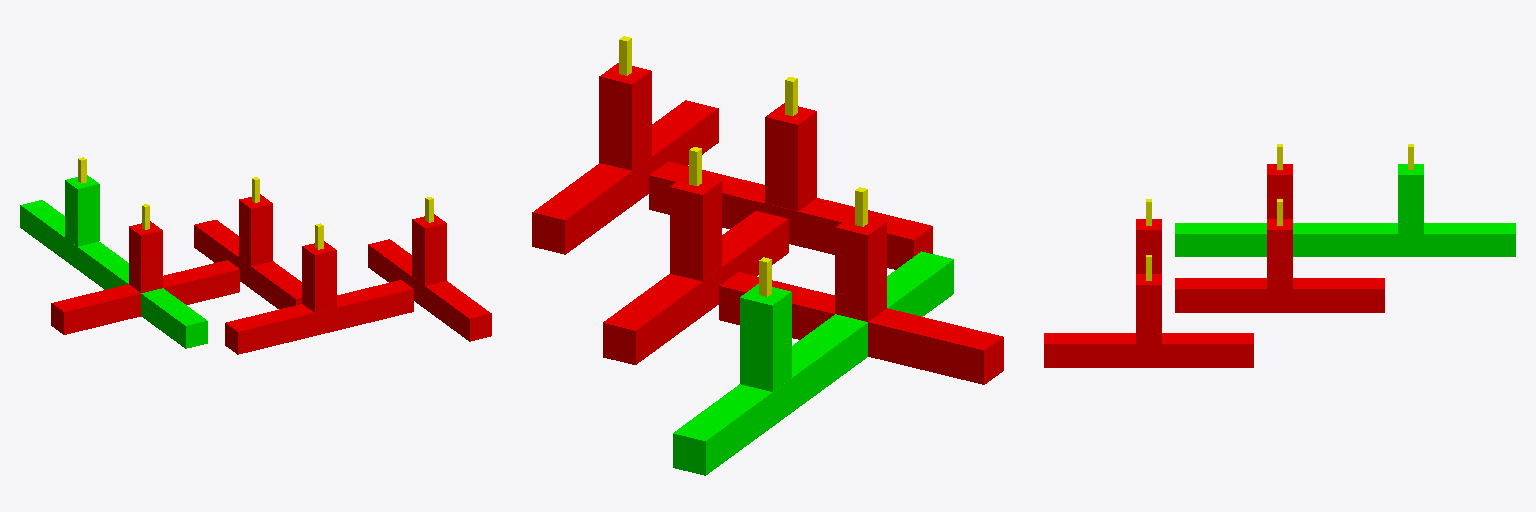
The robot description file, URDF, robot "simple_sliders5":
<?xml version="1.0"?>
<!-- created with Phobos 1.0.1 "Capricious Choutengan" -->
  <robot name="simple_sliders5">

    <link name="base_link">
    </link>

    <link name="goal">
      <visual name="visual_box_0_link_0.001">
        <origin xyz="0 0 0" rpy="0 0 0"/>
        <geometry>
          <box size="1.5974 0.1988 0.1988"/>
        </geometry>
        <material name="green_translucent"/>
      </visual>
    </link>

    <link name="link_0_joint_0">
      <visual name="visual_box_0_link_0">
        <origin xyz="0 0 0" rpy="0 0 0"/>
        <geometry>
          <box size="1.599 0.199 0.199"/>
        </geometry>
        <material name="green"/>
      </visual>
      <collision name="collision_box_0_link_0">
        <origin xyz="0 0 0" rpy="0 0 0"/>
        <geometry>
          <box size="1.599 0.199 0.199"/>
        </geometry>
      </collision>
    </link>

    <link name="link_1_joint_0">
      <visual name="visual_box_3_link_1">
        <origin xyz="0 0 0" rpy="0 0 0"/>
        <geometry>
          <box size="1.599 0.199 0.199"/>
        </geometry>
        <material name="red"/>
      </visual>
      <collision name="collision_box_3_link_1">
        <origin xyz="0 0 0" rpy="0 0 0"/>
        <geometry>
          <box size="1.599 0.199 0.199"/>
        </geometry>
      </collision>
    </link>

    <link name="link_2_joint_0">
      <visual name="visual_box_6_link_2">
        <origin xyz="0 0 0" rpy="0 0 0"/>
        <geometry>
          <box size="1.599 0.199 0.199"/>
        </geometry>
        <material name="red"/>
      </visual>
      <collision name="collision_box_6_link_2">
        <origin xyz="0 0 0" rpy="0 0 0"/>
        <geometry>
          <box size="1.599 0.199 0.199"/>
        </geometry>
      </collision>
    </link>

    <link name="link_3_joint_0">
      <visual name="visual_box_9_link_3">
        <origin xyz="0 0 0" rpy="0 0 0"/>
        <geometry>
          <box size="1.599 0.199 0.199"/>
        </geometry>
        <material name="red"/>
      </visual>
      <collision name="collision_box_9_link_3">
        <origin xyz="0 0 0" rpy="0 0 0"/>
        <geometry>
          <box size="1.599 0.199 0.199"/>
        </geometry>
      </collision>
    </link>

    <link name="link_4_joint_0">
      <visual name="visual_box_12_link_4">
        <origin xyz="0 0 0" rpy="0 0 0"/>
        <geometry>
          <box size="1.599 0.199 0.199"/>
        </geometry>
        <material name="red"/>
      </visual>
      <collision name="collision_box_12_link_4">
        <origin xyz="0 0 0" rpy="0 0 0"/>
        <geometry>
          <box size="1.599 0.199 0.199"/>
        </geometry>
      </collision>
    </link>

    <link name="link_fixed_10_handle_shaft">
      <visual name="visual_box_fixed_10_handle_shaft">
        <origin xyz="0 0 0" rpy="0 0 0"/>
        <geometry>
          <box size="0.199 0.199 0.499"/>
        </geometry>
        <material name="red"/>
      </visual>
      <collision name="collision_box_fixed_10_handle_shaft">
        <origin xyz="0 0 0" rpy="0 0 0"/>
        <geometry>
          <box size="0.199 0.199 0.499"/>
        </geometry>
      </collision>
    </link>

    <link name="link_fixed_11_handle_knob">
      <visual name="visual_box_fixed_11_handle_knob">
        <origin xyz="0 0 0" rpy="0 0 0"/>
        <geometry>
          <box size="0.049 0.049 0.199"/>
        </geometry>
        <material name="yellow"/>
      </visual>
      <collision name="collision_box_fixed_11_handle_knob">
        <origin xyz="0 0 0" rpy="0 0 0"/>
        <geometry>
          <box size="0.049 0.049 0.199"/>
        </geometry>
      </collision>
    </link>

    <link name="link_fixed_13_handle_shaft">
      <visual name="visual_box_fixed_13_handle_shaft">
        <origin xyz="0 0 0" rpy="0 0 0"/>
        <geometry>
          <box size="0.199 0.199 0.499"/>
        </geometry>
        <material name="red"/>
      </visual>
      <collision name="collision_box_fixed_13_handle_shaft">
        <origin xyz="0 0 0" rpy="0 0 0"/>
        <geometry>
          <box size="0.199 0.199 0.499"/>
        </geometry>
      </collision>
    </link>

    <link name="link_fixed_14_handle_knob">
      <visual name="visual_box_fixed_14_handle_knob">
        <origin xyz="0 0 0" rpy="0 0 0"/>
        <geometry>
          <box size="0.049 0.049 0.199"/>
        </geometry>
        <material name="yellow"/>
      </visual>
      <collision name="collision_box_fixed_14_handle_knob">
        <origin xyz="0 0 0" rpy="0 0 0"/>
        <geometry>
          <box size="0.049 0.049 0.199"/>
        </geometry>
      </collision>
    </link>

    <link name="link_fixed_1_handle_shaft">
      <visual name="visual_box_fixed_1_handle_shaft">
        <origin xyz="0 0 0" rpy="0 0 0"/>
        <geometry>
          <box size="0.199 0.199 0.499"/>
        </geometry>
        <material name="green"/>
      </visual>
      <collision name="collision_box_fixed_1_handle_shaft">
        <origin xyz="0 0 0" rpy="0 0 0"/>
        <geometry>
          <box size="0.199 0.199 0.499"/>
        </geometry>
      </collision>
    </link>

    <link name="link_fixed_1_handle_shaft.001">
      <visual name="visual_box_fixed_1_handle_shaft.001">
        <origin xyz="0 0 0" rpy="0 0 0"/>
        <geometry>
          <box size="0.1988 0.1988 0.4985"/>
        </geometry>
        <material name="green_translucent"/>
      </visual>
    </link>

    <link name="link_fixed_2_handle_knob">
      <visual name="visual_box_fixed_2_handle_knob">
        <origin xyz="0 0 0" rpy="0 0 0"/>
        <geometry>
          <box size="0.049 0.049 0.199"/>
        </geometry>
        <material name="yellow"/>
      </visual>
      <collision name="collision_box_fixed_2_handle_knob">
        <origin xyz="0 0 0" rpy="0 0 0"/>
        <geometry>
          <box size="0.049 0.049 0.199"/>
        </geometry>
      </collision>
    </link>

    <link name="link_fixed_2_handle_knob.001">
      <visual name="visual_box_fixed_2_handle_knob.001">
        <origin xyz="0 0 0" rpy="0 0 0"/>
        <geometry>
          <box size="0.04895 0.04895 0.1988"/>
        </geometry>
        <material name="green_translucent"/>
      </visual>
    </link>

    <link name="link_fixed_4_handle_shaft">
      <visual name="visual_box_fixed_4_handle_shaft">
        <origin xyz="0 0 0" rpy="0 0 0"/>
        <geometry>
          <box size="0.199 0.199 0.499"/>
        </geometry>
        <material name="red"/>
      </visual>
      <collision name="collision_box_fixed_4_handle_shaft">
        <origin xyz="0 0 0" rpy="0 0 0"/>
        <geometry>
          <box size="0.199 0.199 0.499"/>
        </geometry>
      </collision>
    </link>

    <link name="link_fixed_5_handle_knob">
      <visual name="visual_box_fixed_5_handle_knob">
        <origin xyz="0 0 0" rpy="0 0 0"/>
        <geometry>
          <box size="0.049 0.049 0.199"/>
        </geometry>
        <material name="yellow"/>
      </visual>
      <collision name="collision_box_fixed_5_handle_knob">
        <origin xyz="0 0 0" rpy="0 0 0"/>
        <geometry>
          <box size="0.049 0.049 0.199"/>
        </geometry>
      </collision>
    </link>

    <link name="link_fixed_7_handle_shaft">
      <visual name="visual_box_fixed_7_handle_shaft">
        <origin xyz="0 0 0" rpy="0 0 0"/>
        <geometry>
          <box size="0.199 0.199 0.499"/>
        </geometry>
        <material name="red"/>
      </visual>
      <collision name="collision_box_fixed_7_handle_shaft">
        <origin xyz="0 0 0" rpy="0 0 0"/>
        <geometry>
          <box size="0.199 0.199 0.499"/>
        </geometry>
      </collision>
    </link>

    <link name="link_fixed_8_handle_knob">
      <visual name="visual_box_fixed_8_handle_knob">
        <origin xyz="0 0 0" rpy="0 0 0"/>
        <geometry>
          <box size="0.049 0.049 0.199"/>
        </geometry>
        <material name="yellow"/>
      </visual>
      <collision name="collision_box_fixed_8_handle_knob">
        <origin xyz="0 0 0" rpy="0 0 0"/>
        <geometry>
          <box size="0.049 0.049 0.199"/>
        </geometry>
      </collision>
    </link>

    <joint name="goal" type="fixed">
      <origin xyz="0 -1.0 0.1" rpy="0 0 -1.5708"/>
      <parent link="base_link"/>
      <child link="goal"/>
      <limit effort="0" velocity="0"/>
    </joint>

    <joint name="link_0_joint_0" type="prismatic">
      <origin xyz="0 0 0.1" rpy="0 0 -1.5708"/>
      <parent link="base_link"/>
      <child link="link_0_joint_0"/>
      <axis xyz="1.0 0 0"/>
      <limit lower="0" upper="1.0" effort="0" velocity="0"/>
    </joint>

    <joint name="link_1_joint_0" type="prismatic">
      <origin xyz="0 -1.0 0.1" rpy="0 0 0"/>
      <parent link="base_link"/>
      <child link="link_1_joint_0"/>
      <axis xyz="1.0 0 0"/>
      <limit lower="0" upper="1.0" effort="0" velocity="0"/>
    </joint>

    <joint name="link_2_joint_0" type="prismatic">
      <origin xyz="1.0 -1.0 0.1" rpy="0 0 -1.5708"/>
      <parent link="base_link"/>
      <child link="link_2_joint_0"/>
      <axis xyz="1.0 0 0"/>
      <limit lower="0" upper="1.0" effort="0" velocity="0"/>
    </joint>

    <joint name="link_3_joint_0" type="prismatic">
      <origin xyz="1.0 -2.0 0.1" rpy="0 0 0"/>
      <parent link="base_link"/>
      <child link="link_3_joint_0"/>
      <axis xyz="1.0 0 0"/>
      <limit lower="0" upper="1.0" effort="0" velocity="0"/>
    </joint>

    <joint name="link_4_joint_0" type="prismatic">
      <origin xyz="2.0 -2.0 0.1" rpy="0 0 -1.5708"/>
      <parent link="base_link"/>
      <child link="link_4_joint_0"/>
      <axis xyz="1.0 0 0"/>
      <limit lower="0" upper="1.0" effort="0" velocity="0"/>
    </joint>

    <joint name="link_fixed_10_handle_shaft" type="fixed">
      <origin xyz="0 0 0.35" rpy="0 0 0"/>
      <parent link="link_3_joint_0"/>
      <child link="link_fixed_10_handle_shaft"/>
    </joint>

    <joint name="link_fixed_11_handle_knob" type="fixed">
      <origin xyz="0 0 0.35" rpy="0 0 0"/>
      <parent link="link_fixed_10_handle_shaft"/>
      <child link="link_fixed_11_handle_knob"/>
    </joint>

    <joint name="link_fixed_13_handle_shaft" type="fixed">
      <origin xyz="0 0 0.35" rpy="0 0 0"/>
      <parent link="link_4_joint_0"/>
      <child link="link_fixed_13_handle_shaft"/>
    </joint>

    <joint name="link_fixed_14_handle_knob" type="fixed">
      <origin xyz="0 0 0.35" rpy="0 0 0"/>
      <parent link="link_fixed_13_handle_shaft"/>
      <child link="link_fixed_14_handle_knob"/>
    </joint>

    <joint name="link_fixed_1_handle_shaft" type="fixed">
      <origin xyz="0 0 0.35" rpy="0 0 0"/>
      <parent link="link_0_joint_0"/>
      <child link="link_fixed_1_handle_shaft"/>
    </joint>

    <joint name="link_fixed_1_handle_shaft.001" type="fixed">
      <origin xyz="0 0 0.34965" rpy="0 0 0"/>
      <parent link="goal"/>
      <child link="link_fixed_1_handle_shaft.001"/>
    </joint>

    <joint name="link_fixed_2_handle_knob" type="fixed">
      <origin xyz="0 0 0.35" rpy="0 0 0"/>
      <parent link="link_fixed_1_handle_shaft"/>
      <child link="link_fixed_2_handle_knob"/>
    </joint>

    <joint name="link_fixed_2_handle_knob.001" type="fixed">
      <origin xyz="0 0 0.34965" rpy="0 0 0"/>
      <parent link="link_fixed_1_handle_shaft.001"/>
      <child link="link_fixed_2_handle_knob.001"/>
    </joint>

    <joint name="link_fixed_4_handle_shaft" type="fixed">
      <origin xyz="0 0 0.35" rpy="0 0 0"/>
      <parent link="link_1_joint_0"/>
      <child link="link_fixed_4_handle_shaft"/>
    </joint>

    <joint name="link_fixed_5_handle_knob" type="fixed">
      <origin xyz="0 0 0.35" rpy="0 0 0"/>
      <parent link="link_fixed_4_handle_shaft"/>
      <child link="link_fixed_5_handle_knob"/>
    </joint>

    <joint name="link_fixed_7_handle_shaft" type="fixed">
      <origin xyz="0 0 0.35" rpy="0 0 0"/>
      <parent link="link_2_joint_0"/>
      <child link="link_fixed_7_handle_shaft"/>
    </joint>

    <joint name="link_fixed_8_handle_knob" type="fixed">
      <origin xyz="0 0 0.35" rpy="0 0 0"/>
      <parent link="link_fixed_7_handle_shaft"/>
      <child link="link_fixed_8_handle_knob"/>
    </joint>

    <material name="green">
      <color rgba="0 1.0 0 1.0"/>
    </material>

    <material name="green_translucent">
      <color rgba="0 1.0 0 0.25"/>
    </material>

    <material name="red">
      <color rgba="1.0 0 0 1.0"/>
    </material>

    <material name="yellow">
      <color rgba="1.0 1.0 0 1.0"/>
    </material>

  </robot>

--- Render facts (derived) ---
Views: 3 orthographic renders of the robot side by side, from view 1: azimuth 30°, elevation 25°; view 2: azimuth 150°, elevation 25°; view 3: azimuth 270°, elevation 25°.
Model simple_sliders5 with 19 links and 18 joints (5 prismatic, 13 fixed), rooted at base_link, posed every joint at zero.
Visible links, largest first — view 1: link_3_joint_0, link_1_joint_0, link_4_joint_0, link_0_joint_0, link_2_joint_0, goal, link_fixed_13_handle_shaft, link_fixed_10_handle_shaft, link_fixed_1_handle_shaft, link_fixed_7_handle_shaft, link_fixed_4_handle_shaft; view 2: link_0_joint_0, link_1_joint_0, link_4_joint_0, link_2_joint_0, link_3_joint_0, link_fixed_13_handle_shaft, link_fixed_10_handle_shaft, link_fixed_1_handle_shaft, link_fixed_7_handle_shaft, link_fixed_4_handle_shaft, goal; view 3: link_2_joint_0, link_4_joint_0, link_0_joint_0, goal, link_fixed_1_handle_shaft, link_fixed_13_handle_shaft, link_fixed_7_handle_shaft, link_fixed_10_handle_shaft, link_fixed_4_handle_shaft.
Link boxes in pixels (x1,y1,x2,y2): link_3_joint_0: (225,280,413,354); link_1_joint_0: (51,260,239,334); link_4_joint_0: (368,239,491,341); link_0_joint_0: (20,200,128,289); link_2_joint_0: (194,220,301,308); goal: (122,278,207,348); link_fixed_13_handle_shaft: (412,214,446,285); link_fixed_10_handle_shaft: (302,241,336,312); link_fixed_1_handle_shaft: (65,175,99,246); link_fixed_7_handle_shaft: (239,194,272,265); link_fixed_4_handle_shaft: (129,221,162,292); link_0_joint_0: (673,321,858,475); link_1_joint_0: (719,272,1003,384); link_4_joint_0: (532,100,718,254); link_2_joint_0: (603,211,788,364); link_3_joint_0: (649,161,932,269); link_fixed_13_handle_shaft: (599,63,651,170); link_fixed_10_handle_shaft: (765,103,816,210); link_fixed_1_handle_shaft: (740,284,791,391); link_fixed_7_handle_shaft: (670,173,721,281); link_fixed_4_handle_shaft: (835,214,886,321); goal: (827,251,953,362); link_2_joint_0: (1175,278,1384,312); link_4_joint_0: (1044,333,1253,367); link_0_joint_0: (1306,223,1515,256); goal: (1175,223,1305,256); link_fixed_1_handle_shaft: (1398,164,1423,233); link_fixed_13_handle_shaft: (1136,274,1161,343); link_fixed_7_handle_shaft: (1267,219,1292,288); link_fixed_10_handle_shaft: (1136,219,1161,273); link_fixed_4_handle_shaft: (1267,164,1292,218).
Bounding box of the posed robot: 2.9 × 3.6 × 0.899 m (x, y, z).
Geometry: primitives only (box / cylinder / sphere), no mesh files.